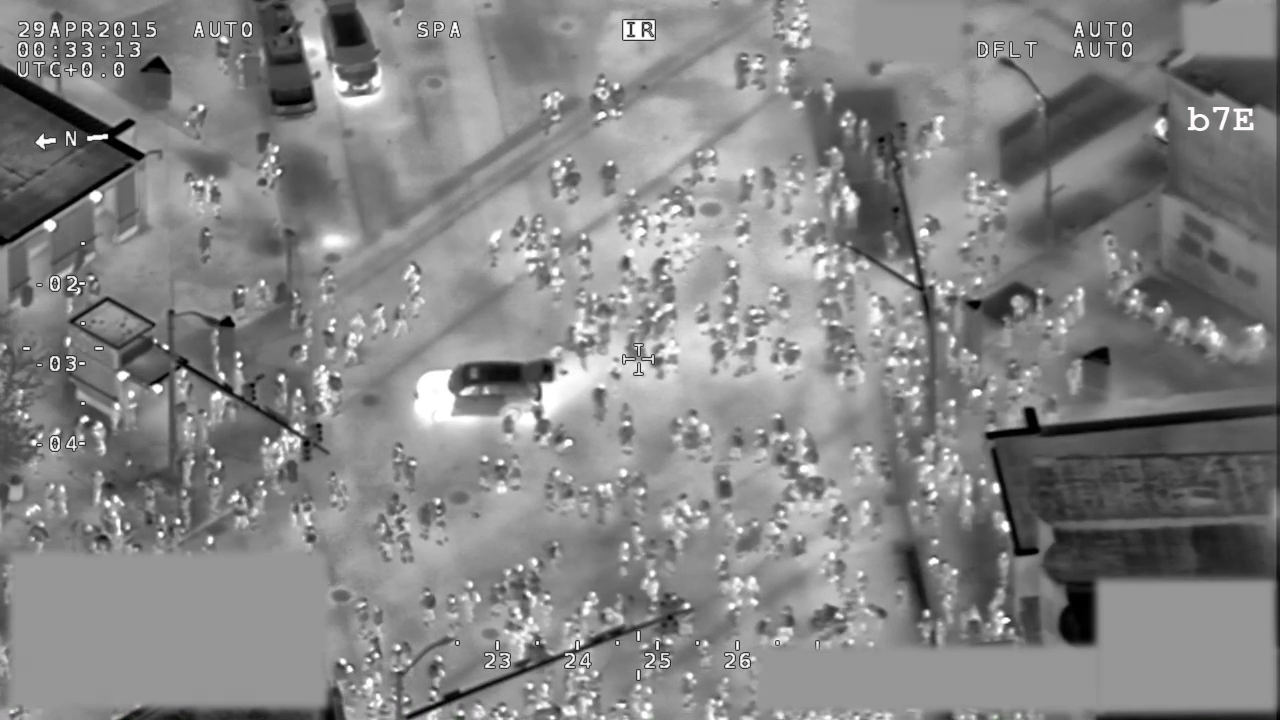vehicle: (404, 351, 560, 434), (254, 1, 319, 120), (318, 1, 389, 103)
